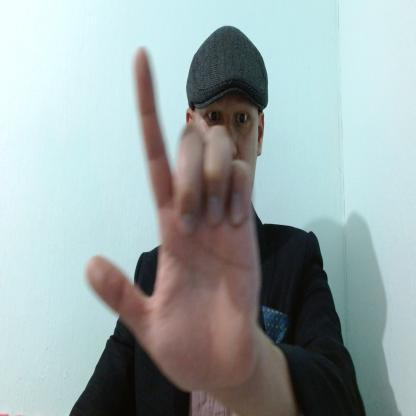L: (86, 46, 260, 394)
